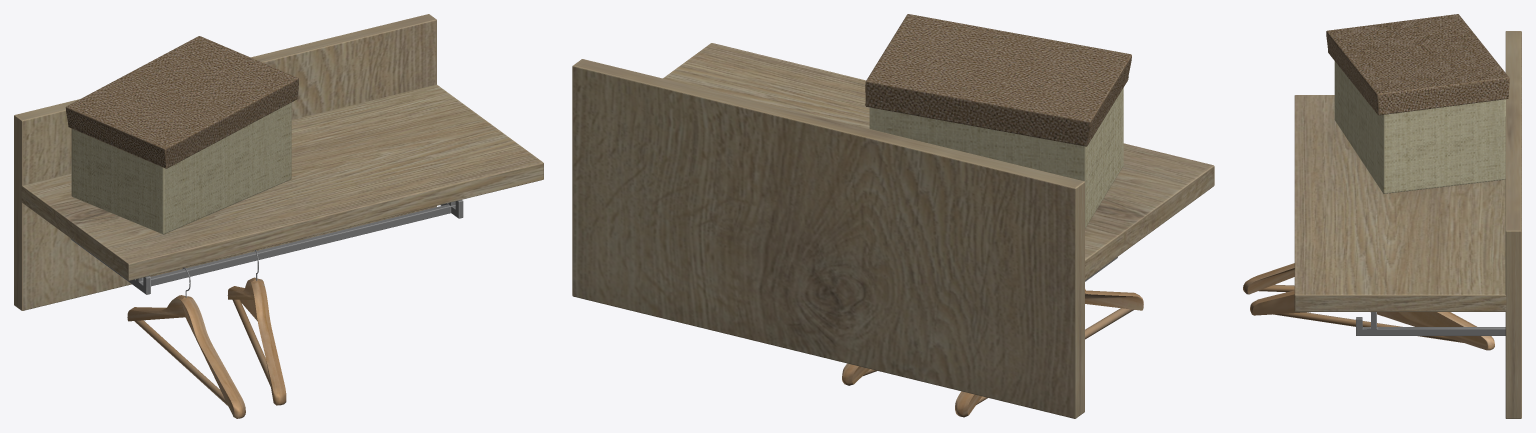
The model's file is raw_model.obj.
3 views of the same model, side by side, from view 1: azimuth 30°, elevation 25°; view 2: azimuth 150°, elevation 25°; view 3: azimuth 270°, elevation 25° (orthographic). The views are drawn at different scales.
Visible parts, largest first — view 1: solid_003, solid_005, solid_004, solid_001, solid_002; view 2: solid_003, solid_005, solid_004, solid_001; view 3: solid_003, solid_005, solid_004, solid_001, solid_002.
Boxes of the visible parts, left/top/right/bottom form: solid_003: left=14, top=14, right=543, bottom=310; solid_005: left=65, top=36, right=298, bottom=168; solid_004: left=71, top=102, right=291, bottom=234; solid_001: left=127, top=277, right=286, bottom=418; solid_002: left=70, top=199, right=463, bottom=297; solid_003: left=572, top=43, right=1214, bottom=418; solid_005: left=865, top=14, right=1131, bottom=146; solid_004: left=869, top=88, right=1123, bottom=228; solid_001: left=842, top=289, right=1143, bottom=417; solid_003: left=1294, top=31, right=1521, bottom=418; solid_005: left=1326, top=14, right=1509, bottom=115; solid_004: left=1334, top=61, right=1505, bottom=193; solid_001: left=1243, top=263, right=1494, bottom=350; solid_002: left=1356, top=312, right=1505, bottom=335.
Size of the model in its own units: 0.75 by 0.4536 by 0.4412.
Materials: 1 (1 with a texture image).
